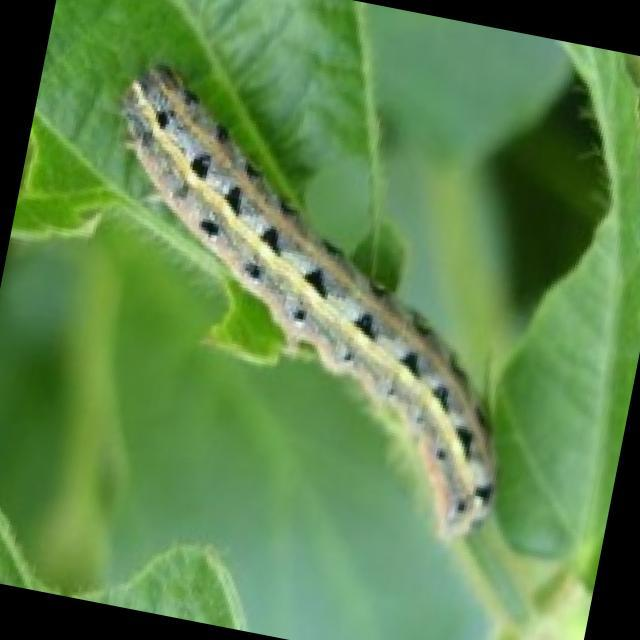Plaga: (29, 51, 594, 568)
